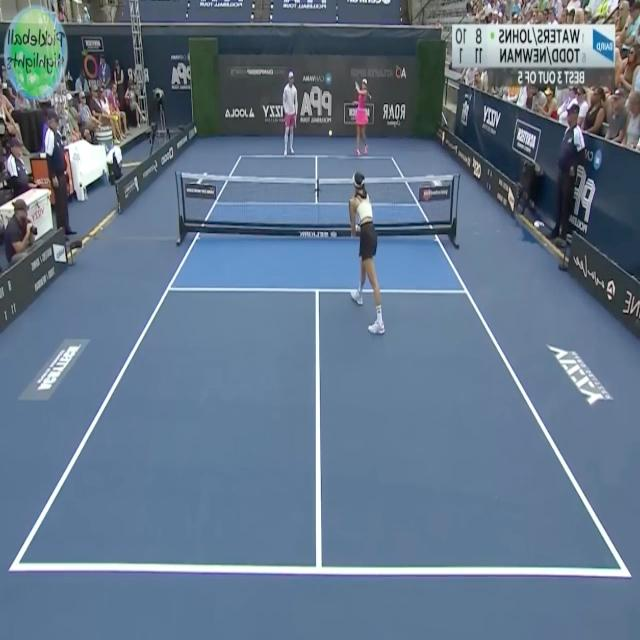Pickleball: (328, 127, 334, 139)
